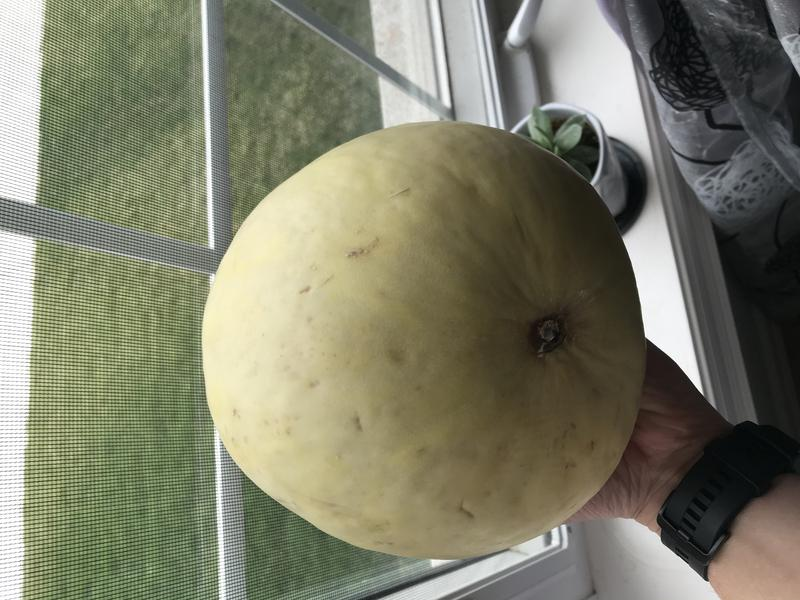honeydew: (185, 117, 659, 571)
